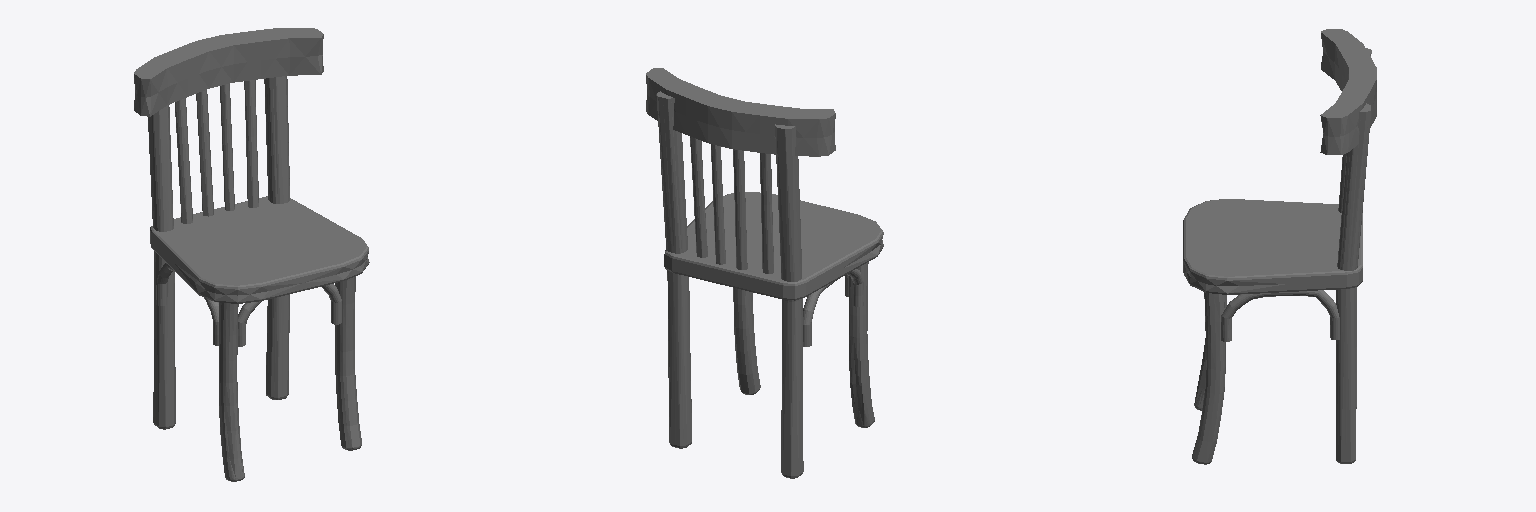
Rendered from TexturedChair.obj.
3 views of the same model, side by side, from view 1: azimuth 30°, elevation 25°; view 2: azimuth 150°, elevation 25°; view 3: azimuth 270°, elevation 25° (orthographic).
Parts seen in each view (by area): view 1: ChairSeat_HeadRest, ChairLegs; view 2: ChairLegs, ChairSeat_HeadRest; view 3: ChairSeat_HeadRest, ChairLegs.
Boxes of the visible parts, x1=… form: ChairSeat_HeadRest: x1=134, y1=28, x2=369, y2=303; ChairLegs: x1=148, y1=76, x2=361, y2=481; ChairLegs: x1=656, y1=91, x2=874, y2=478; ChairSeat_HeadRest: x1=646, y1=68, x2=883, y2=300; ChairSeat_HeadRest: x1=1183, y1=29, x2=1376, y2=294; ChairLegs: x1=1192, y1=48, x2=1371, y2=464.
Bounding box in the file's own units: 54.53 × 104 × 49.8.